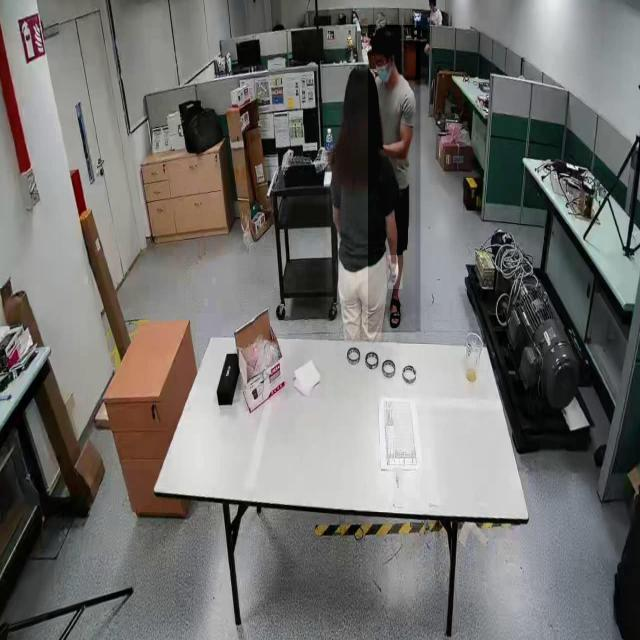face_mask: (372, 46, 394, 92)
hand_glove: (388, 255, 403, 290)
head_nohelmet: (344, 62, 378, 90), (371, 25, 395, 47)
person: (326, 28, 416, 340), (368, 25, 421, 332)
